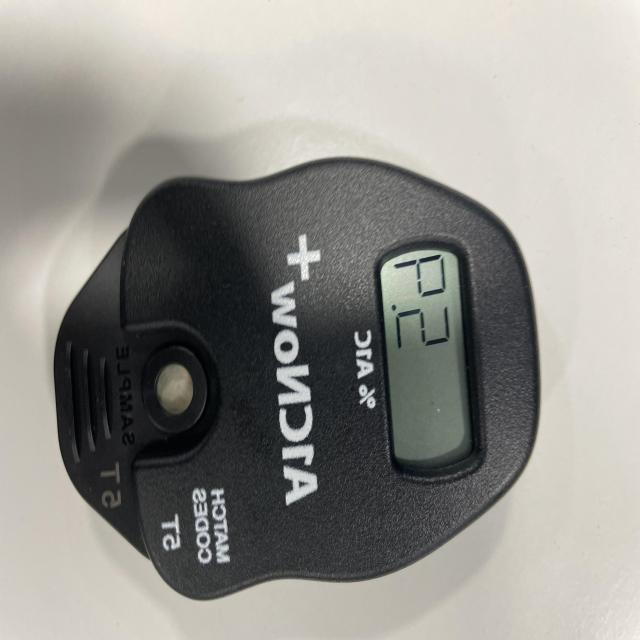hba1c: (51, 157, 544, 612)
